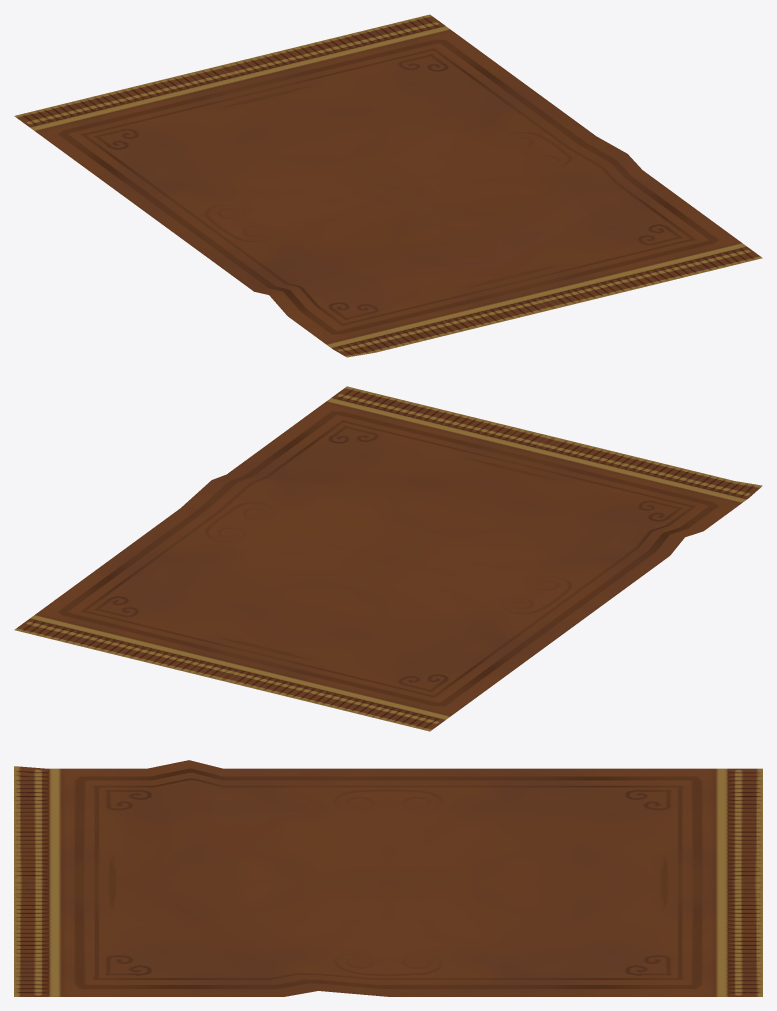
Rendered from P_Rug_D.FBX.
3 renders of one model, top to bottom at view 1: azimuth 30°, elevation 25°; view 2: azimuth 150°, elevation 25°; view 3: azimuth 270°, elevation 25°, orthographic. The views are drawn at different scales.
Visible parts, largest first — view 1: P_Rug_D; view 2: P_Rug_D; view 3: P_Rug_D.
Part boxes in pixels (box(x1,y1,x2,y2)): P_Rug_D: box(14, 14, 762, 357); P_Rug_D: box(14, 386, 762, 731); P_Rug_D: box(14, 760, 762, 996).
Bounding box in the file's own units: 206 × 3.57 × 285.
1 material, 1 textured.
